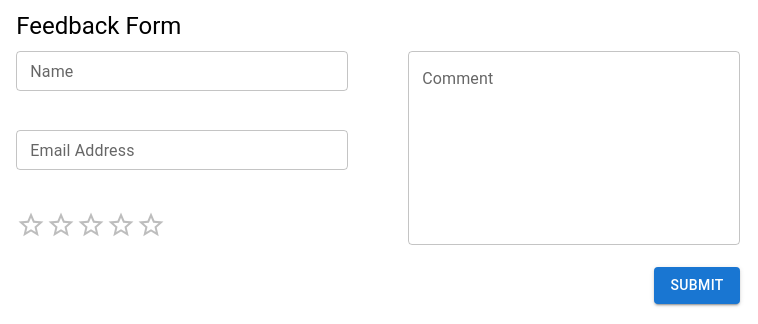
Test: FeedbackForm › fields › email address › when input has an invalid value, message will dissapear when changing its value
Type "john" into the field labelled "Email Address" at (182, 150), box [16,130,348,170]
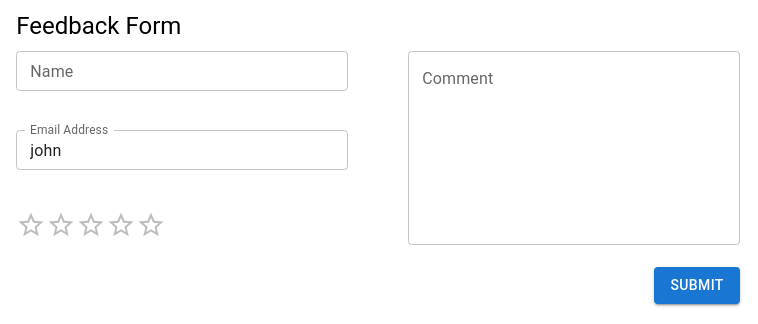
Leave the field labelled "Email Address", box [16,130,348,170]
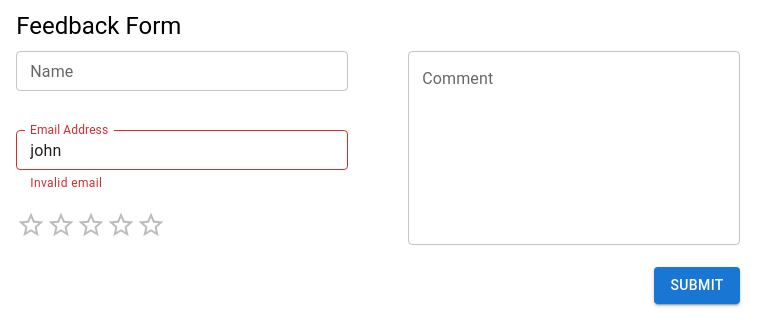
Expected: the text "Invalid email" is shown, [30,176,102,190]
Replace the text in the field labelled "Email Address" with "john@" at (182, 150), box [16,130,348,170]
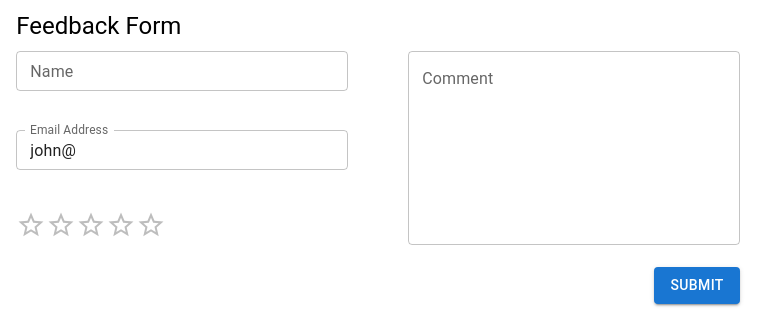
Expected: the text "Invalid email" is gone
